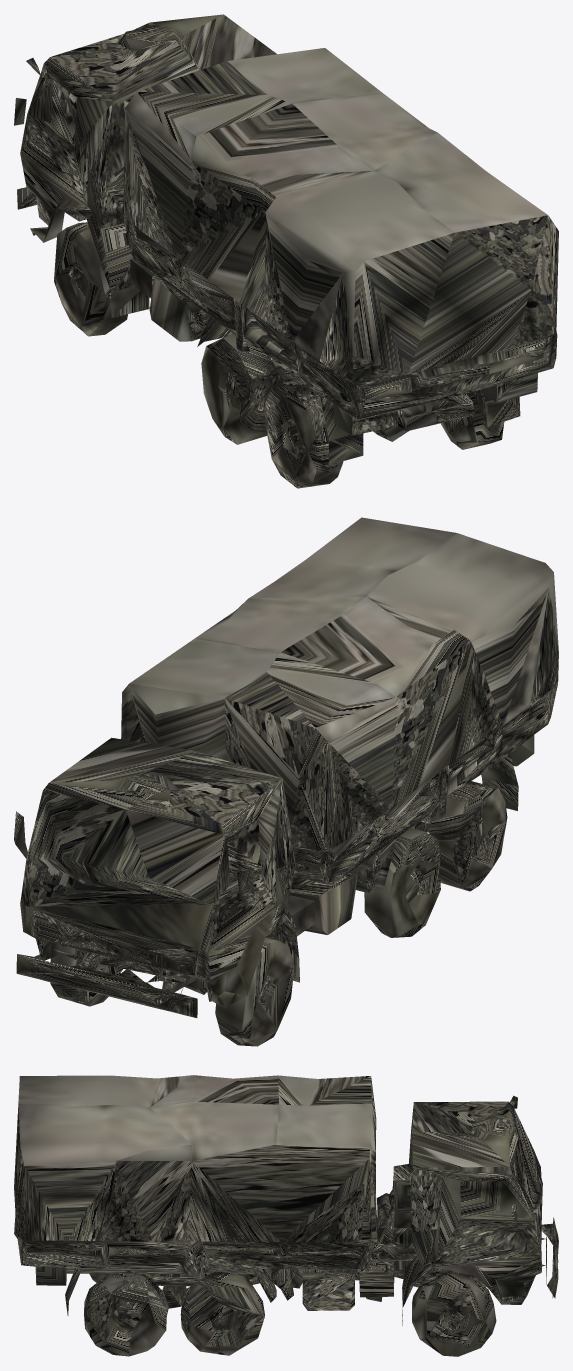
The model's file is Kamaz_6x6_25k.glb.
The picture shows the model from 3 angles, top to bottom: view 1: azimuth 30°, elevation 25°; view 2: azimuth 150°, elevation 25°; view 3: azimuth 270°, elevation 25°; orthographic projection. The views are drawn at different scales.
Visible parts, largest first — view 1: output_unwrapped; view 2: output_unwrapped; view 3: output_unwrapped.
Boxes of the visible parts, bbox=[...] form: output_unwrapped: bbox=[14, 14, 558, 488]; output_unwrapped: bbox=[14, 517, 558, 1046]; output_unwrapped: bbox=[14, 1075, 558, 1356].
Bounding box in the file's own units: 3.06 × 3.48 × 7.79.
1 material, 1 textured.
